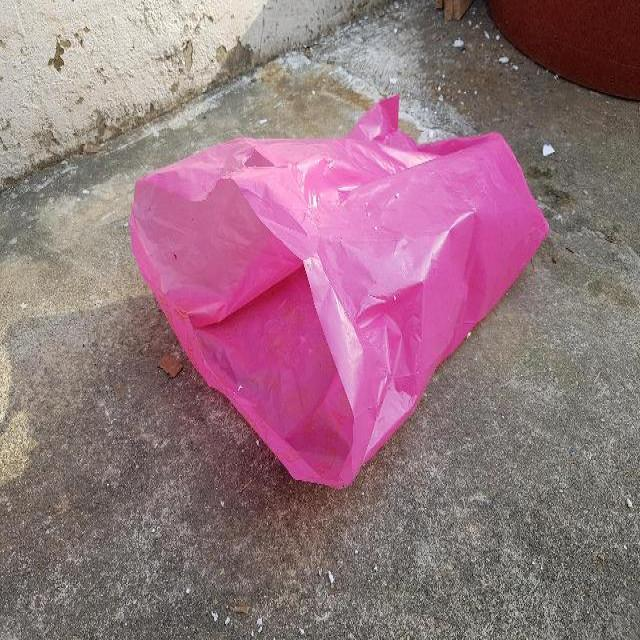plastic bag: (128, 87, 554, 492)
